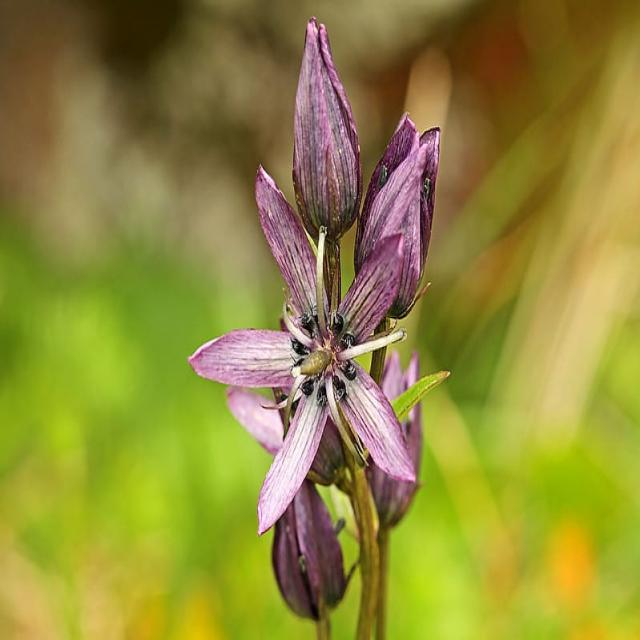Chirata: (177, 31, 638, 640), (144, 173, 639, 640), (221, 44, 576, 427)
